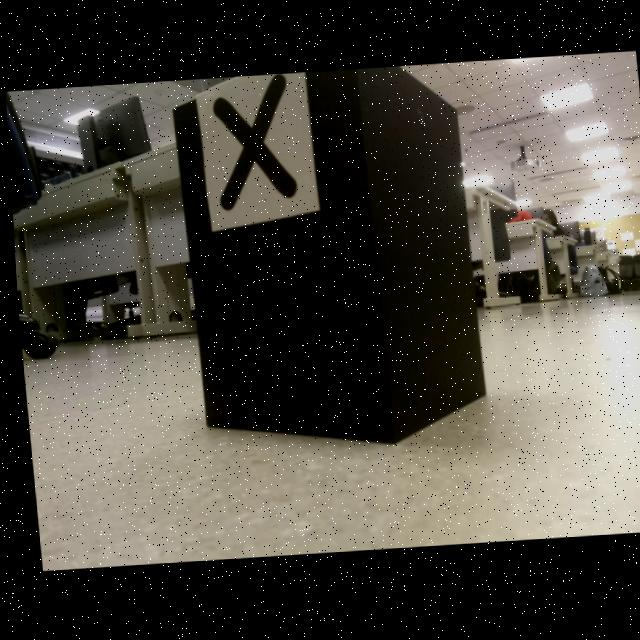X: (212, 75, 296, 213)
